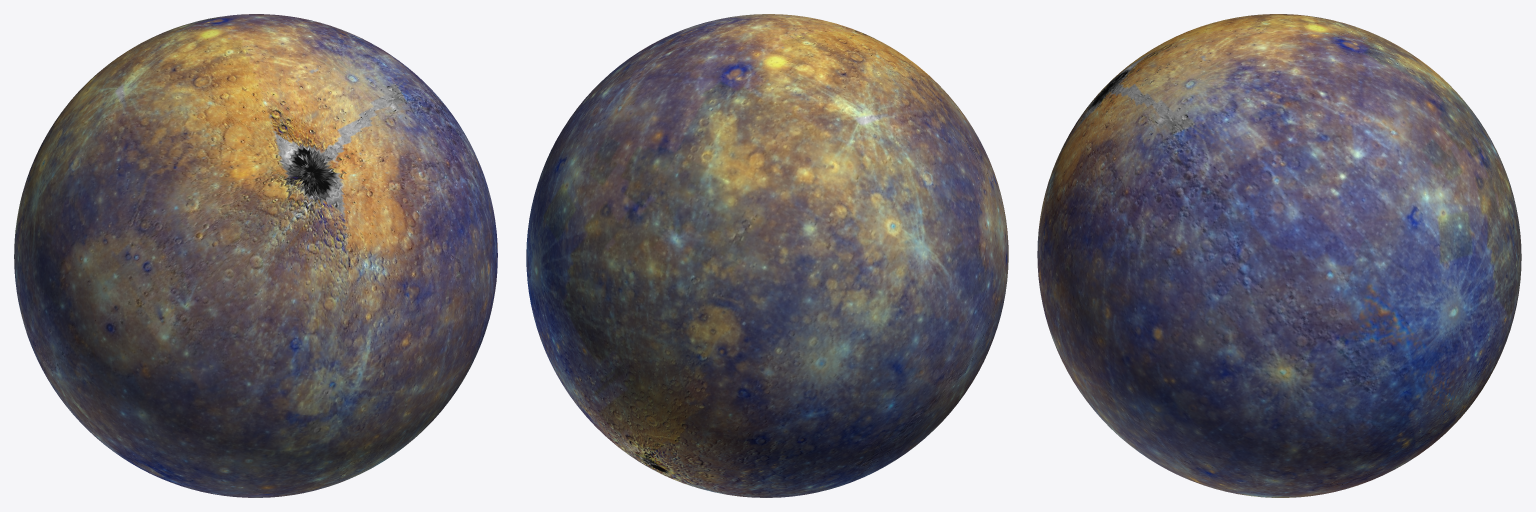
The model's file is mercure.fbx.
3 views of the same model, side by side, from view 1: azimuth 30°, elevation 25°; view 2: azimuth 150°, elevation 25°; view 3: azimuth 270°, elevation 25° (orthographic).
Parts seen in each view (by area): view 1: MERCURE; view 2: MERCURE; view 3: MERCURE.
Boxes of the visible parts, bbox=[...] form: MERCURE: bbox=[14, 14, 497, 497]; MERCURE: bbox=[526, 14, 1008, 497]; MERCURE: bbox=[1037, 14, 1521, 497].
Bounding box in the file's own units: 48.75 × 48.74 × 48.59.
Materials: 1 (1 with a texture image).
